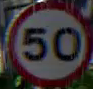Speed limit: (7, 0, 91, 83)
